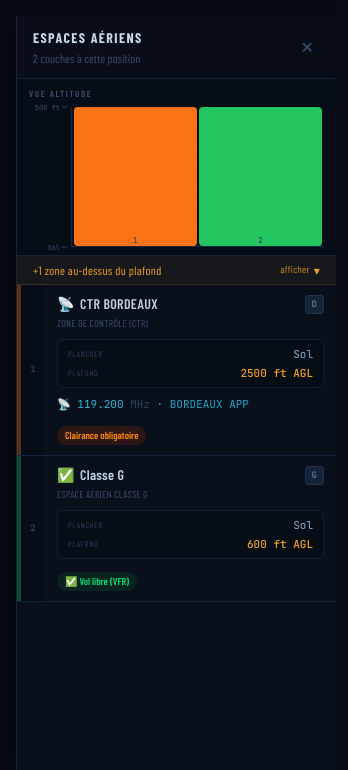
Test: ZoneStack › replie les zones au-dessus du plafond au second clic
Click the button with test id "hidden-zones-notice" at point(113, 270), box x1=17 y1=256 x2=336 y2=284
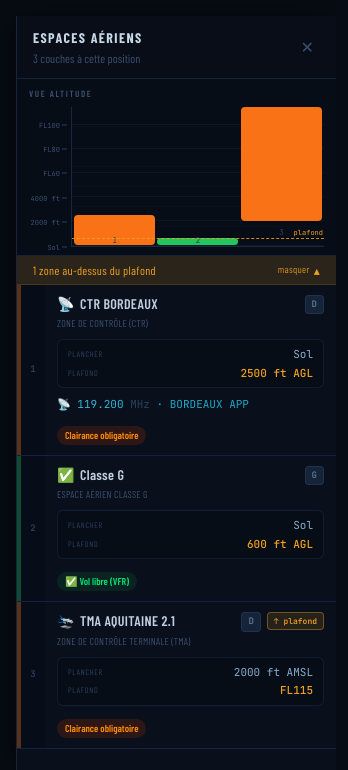
Now the text "TMA AQUITAINE 2.1" is shown, box x1=80 y1=612 x2=175 y2=629
Click the button with test id "hidden-zones-notice" at point(108, 270), box x1=17 y1=256 x2=336 y2=284
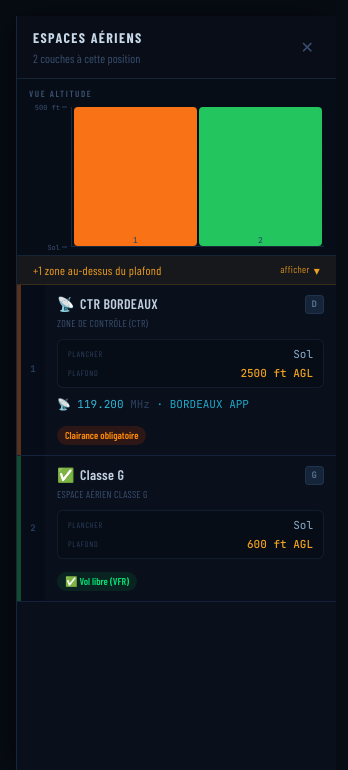
Now the button "TMA AQUITAINE 2.1" is gone
